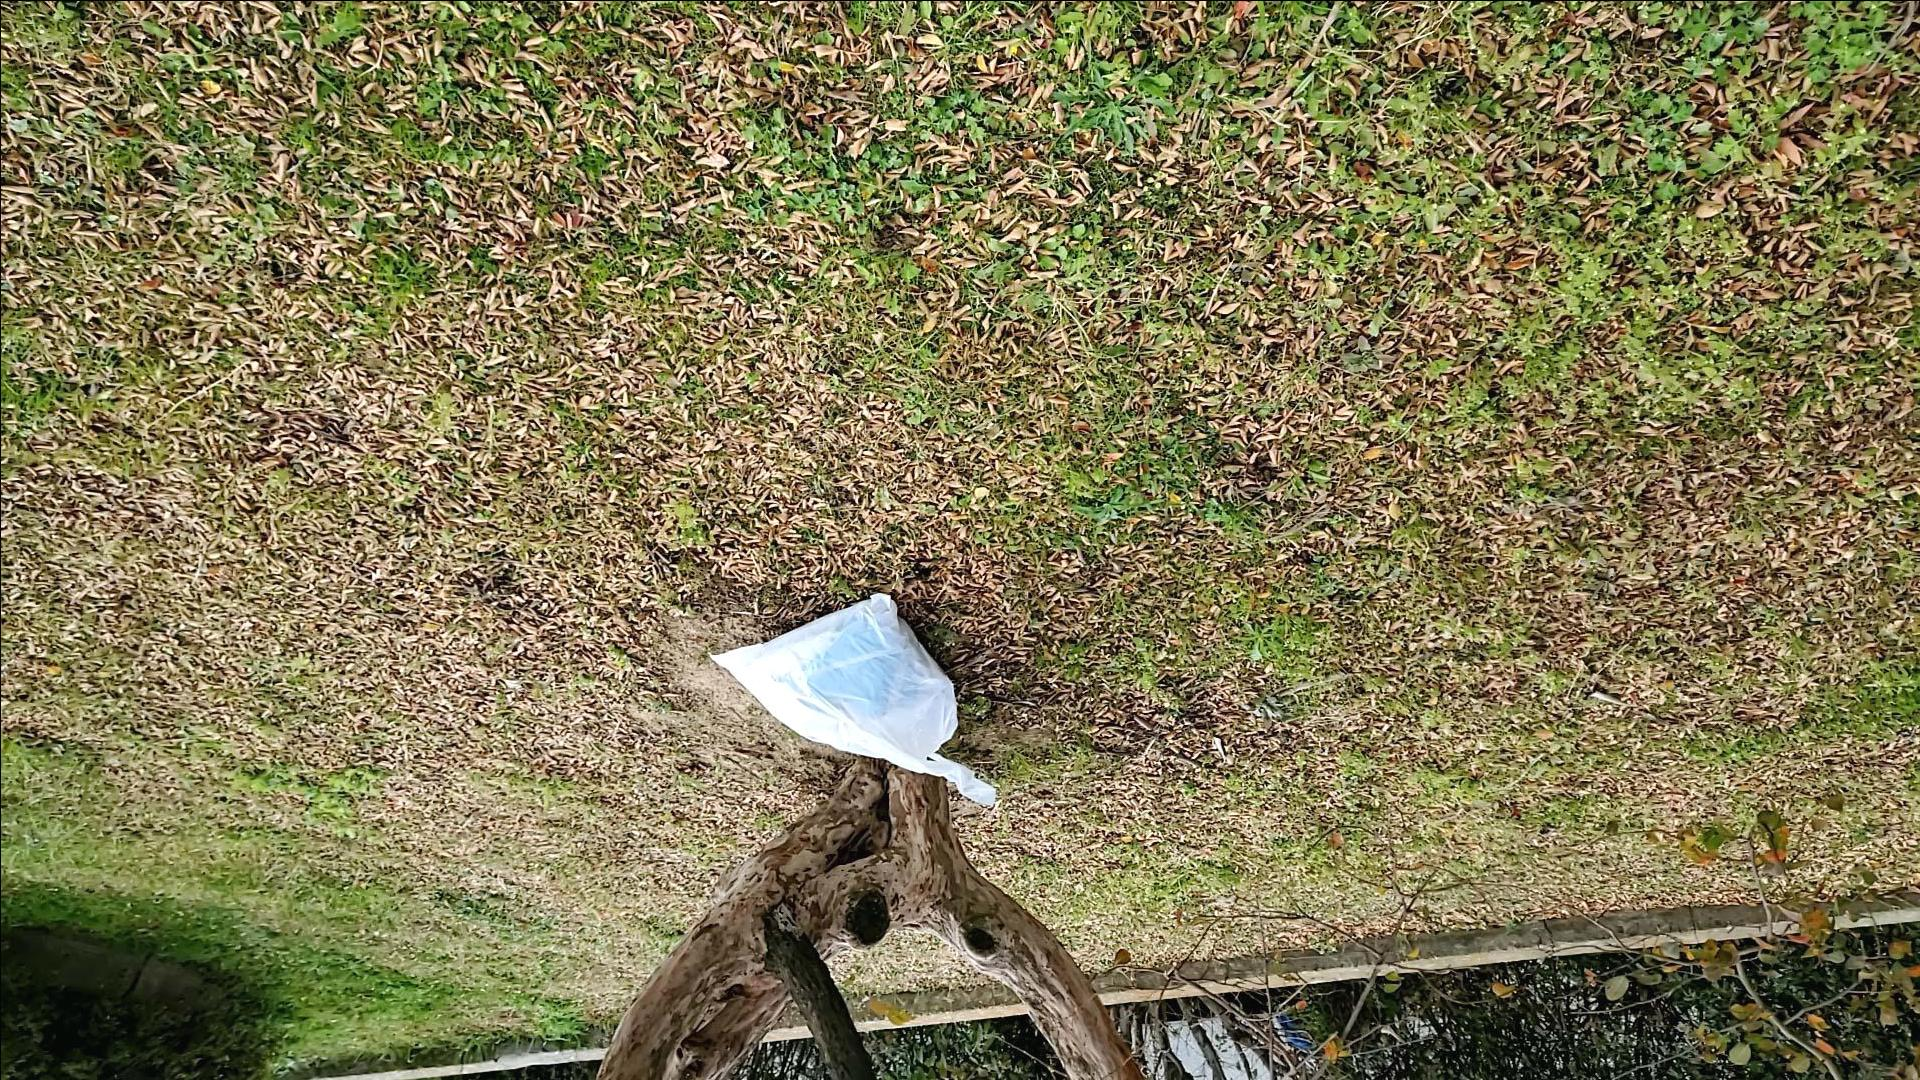white_bag: (694, 578, 1023, 818)
